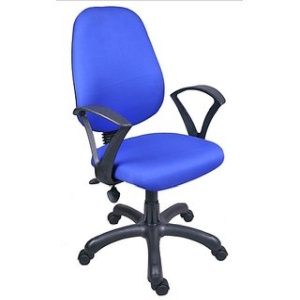chair: (70, 6, 229, 296)
